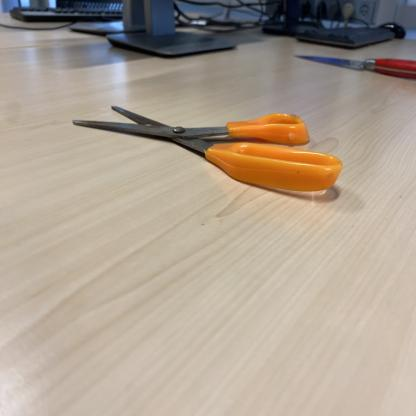Knife: (293, 53, 416, 80)
scissors: (71, 104, 345, 195)
